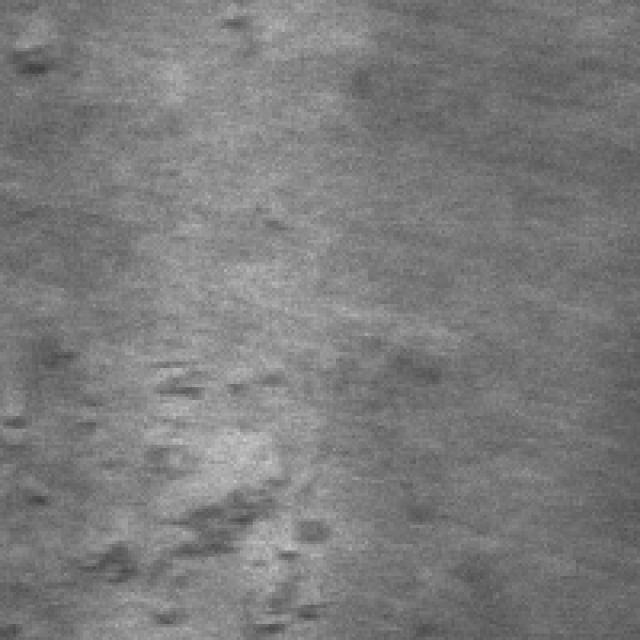rolled-in_scale: (3, 358, 381, 637)
